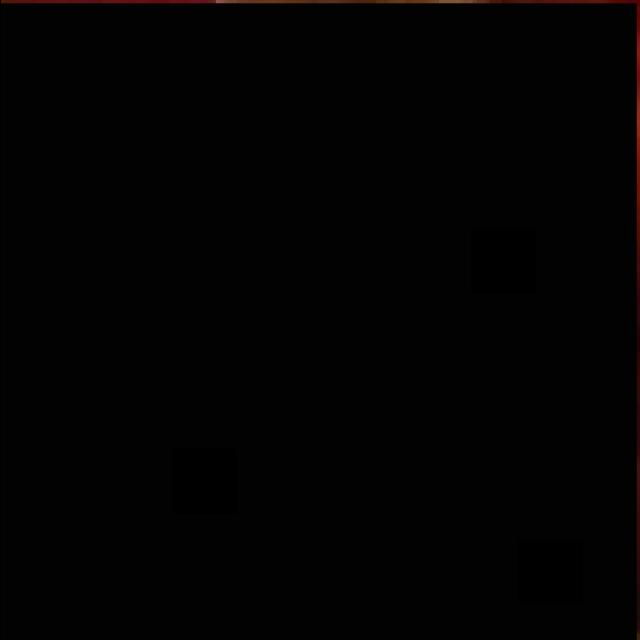nofire: (0, 3, 636, 640)
